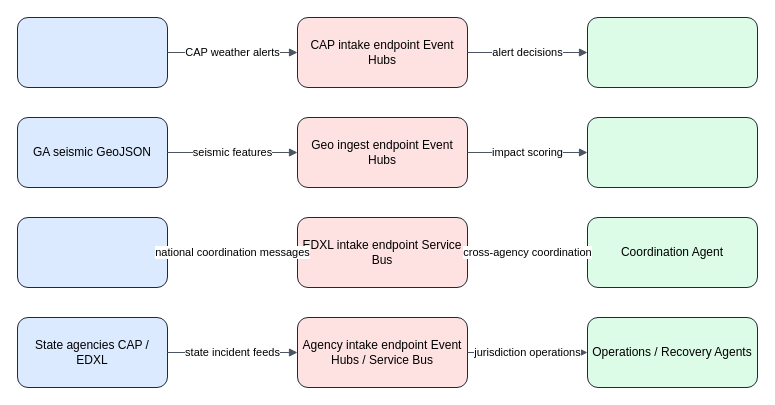
The diagram is 775 pixels wide and 405 high, and some of its shapes have lost their labels. The centre of each missing label's shape, as x and y in pixels:
Alerting Agent: [672,52]
BoM weather XML / CAP: [92,52]
Impact Agent: [672,152]
NEMA NCM EDXL: [92,252]
